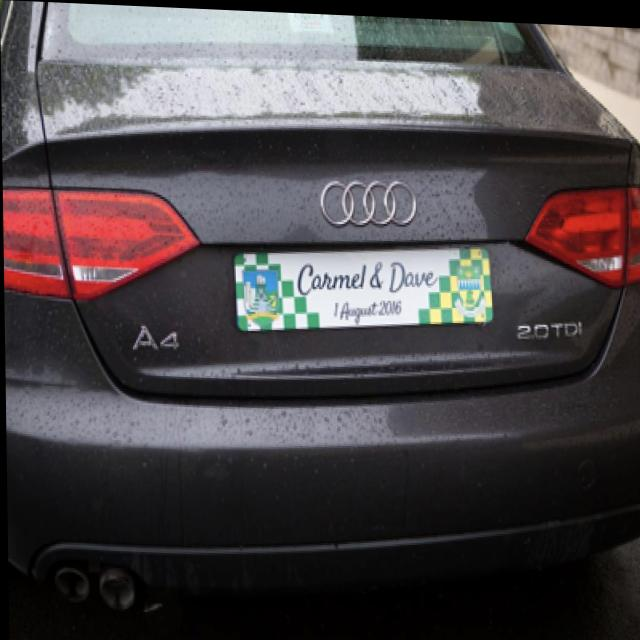licence: (232, 249, 482, 324)
